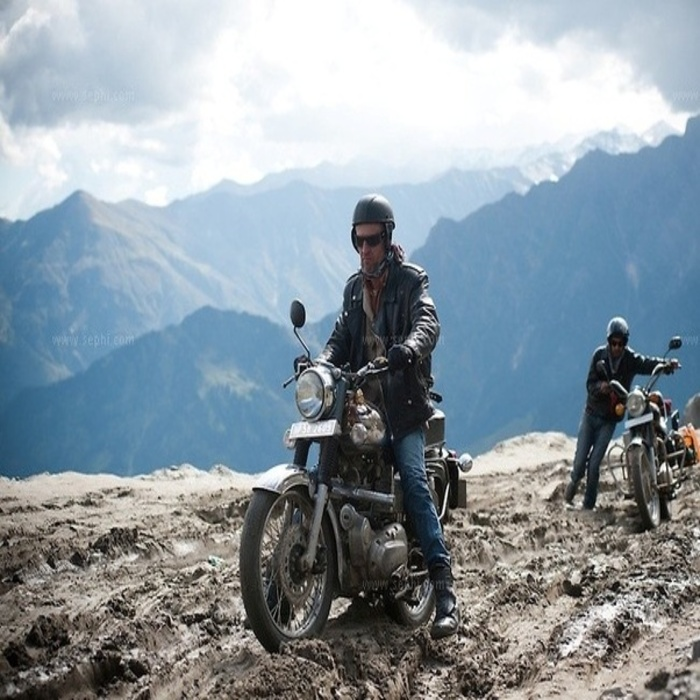h: (350, 192, 394, 235), (606, 313, 630, 350)
n: (289, 417, 337, 444), (621, 410, 655, 433)
